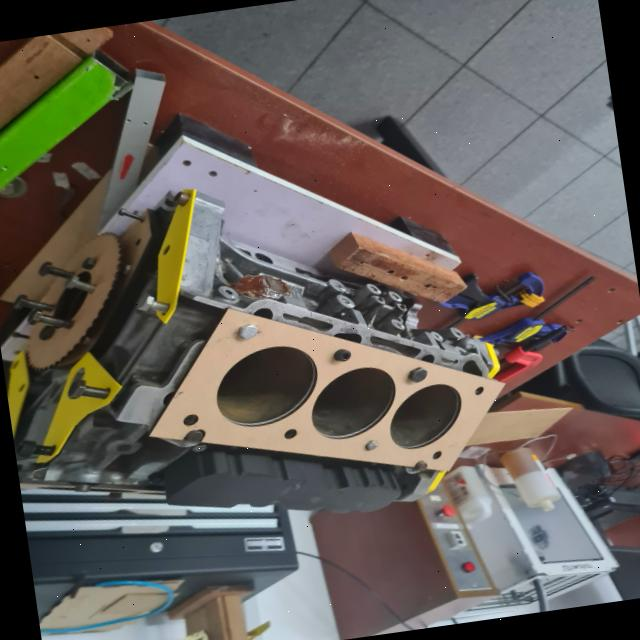tor_v1: (150, 309, 502, 470)
